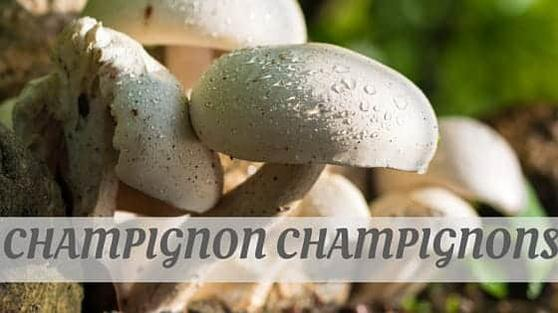champignon: (166, 44, 444, 217)
